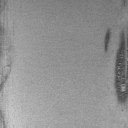oxide scale of plate system: (114, 25, 128, 104), (103, 26, 114, 53), (120, 0, 126, 9)
